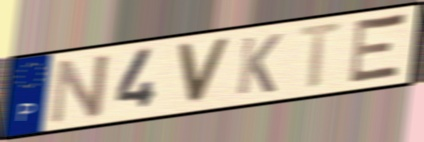4: (113, 44, 163, 116)
E: (346, 11, 410, 87)
K: (234, 31, 285, 97)
N: (47, 51, 113, 128)
T: (294, 19, 349, 93)
V: (174, 37, 233, 106)
